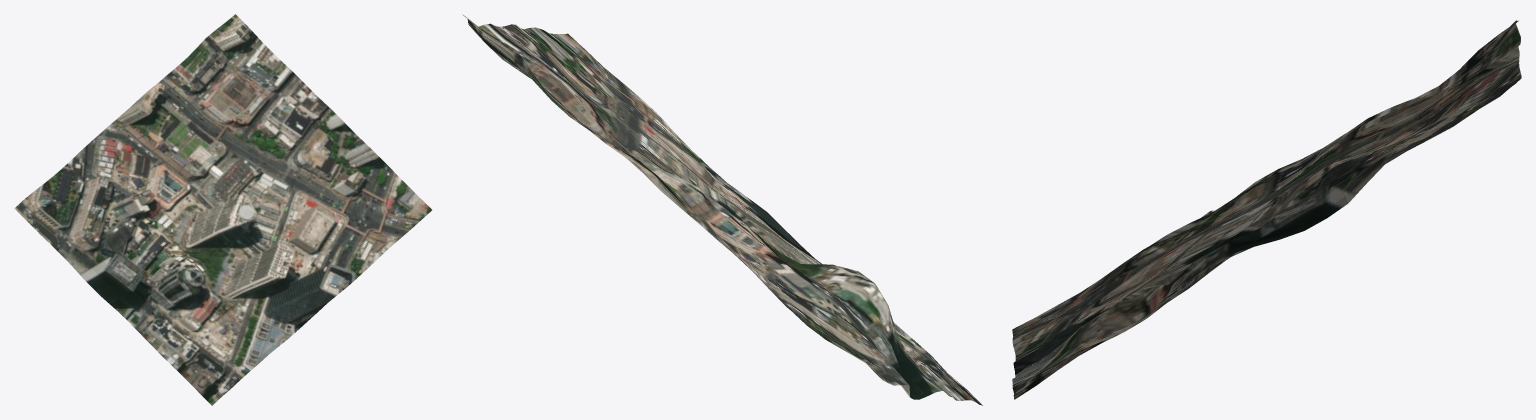
3 views of the same model, side by side, from view 1: azimuth 30°, elevation 25°; view 2: azimuth 150°, elevation 25°; view 3: azimuth 270°, elevation 25° (orthographic). The views are drawn at different scales.
Bounding box in the file's own units: 590 × 508 × 446.
1 material, 1 textured.
